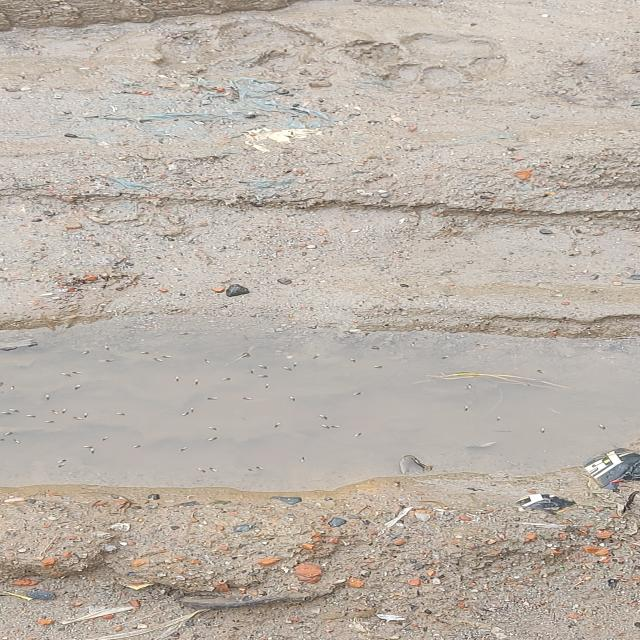Breeding Place: (0, 317, 640, 489)
